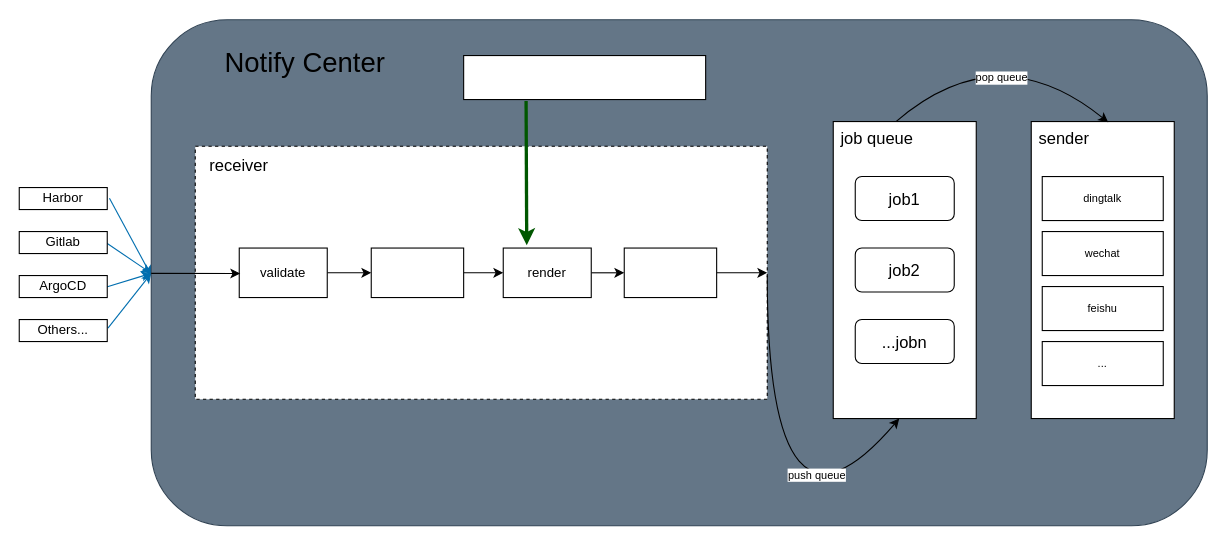
The diagram is 1227 pixels wide and 545 high, and some of its shapes have lost their labels. Here are the shapes that lost their labels. From the top down, the box of each, then its label:
(463, 54, 706, 100): message template
(370, 247, 464, 298): filter
(623, 247, 717, 298): package job
